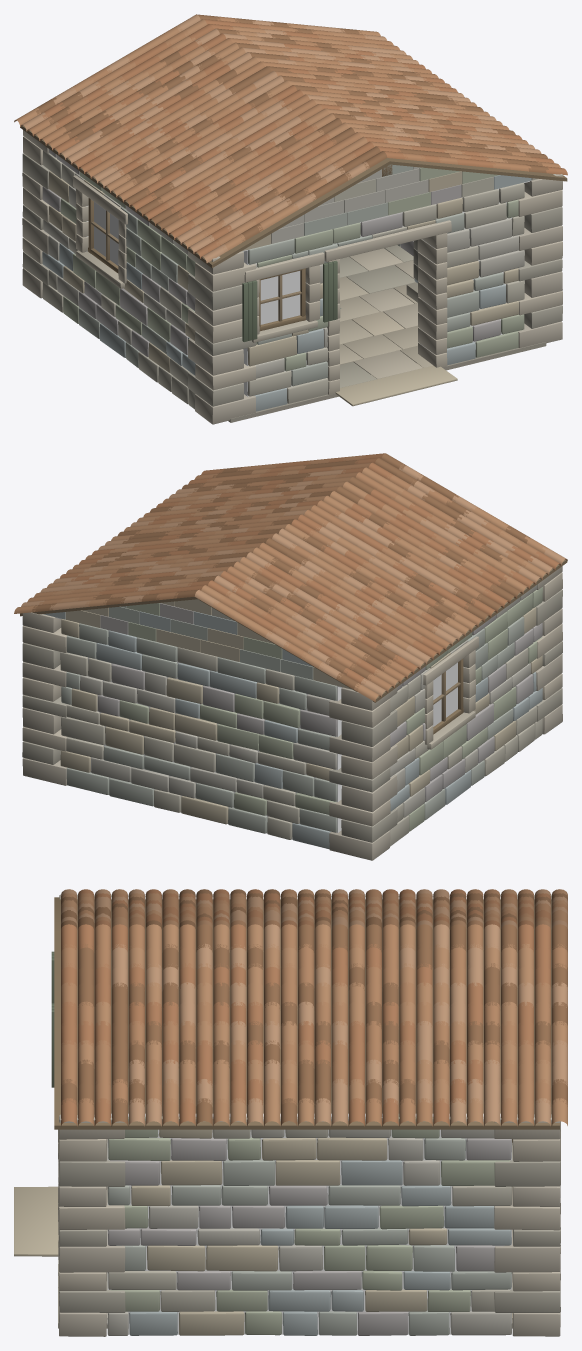
Rendered from Maison_Finition_final.fbx.
3 views of the same model, one above another, from view 1: azimuth 30°, elevation 25°; view 2: azimuth 150°, elevation 25°; view 3: azimuth 270°, elevation 25° (orthographic). The views are drawn at different scales.
Parts seen in each view (by area): view 1: Maconnerie_Assises.003, Tuiles_Conserve.003, Dalles_Patine_Discrete.003, Bois_Assemblages.003, Vitres_Fenetres_Conserve.003; view 2: Maconnerie_Assises.003, Tuiles_Conserve.003, Bois_Assemblages.003, Vitres_Fenetres_Conserve.003, Joints_Chaux_Retraits.003; view 3: Tuiles_Conserve.003, Maconnerie_Assises.003, Bois_Assemblages.003, Dalles_Patine_Discrete.003, Joints_Chaux_Retraits.003.
Boxes of the visible parts, x1=… form: Maconnerie_Assises.003: x1=22, y1=130, x2=562, y2=424; Tuiles_Conserve.003: x1=14, y1=14, x2=567, y2=262; Dalles_Patine_Discrete.003: x1=228, y1=245, x2=546, y2=422; Bois_Assemblages.003: x1=20, y1=125, x2=567, y2=341; Vitres_Fenetres_Conserve.003: x1=94, y1=202, x2=300, y2=324; Maconnerie_Assises.003: x1=22, y1=566, x2=562, y2=860; Tuiles_Conserve.003: x1=14, y1=453, x2=567, y2=701; Bois_Assemblages.003: x1=20, y1=559, x2=567, y2=734; Vitres_Fenetres_Conserve.003: x1=432, y1=662, x2=457, y2=726; Joints_Chaux_Retraits.003: x1=55, y1=617, x2=516, y2=839; Tuiles_Conserve.003: x1=61, y1=889, x2=567, y2=1126; Maconnerie_Assises.003: x1=58, y1=894, x2=560, y2=1336; Bois_Assemblages.003: x1=51, y1=897, x2=559, y2=1142; Dalles_Patine_Discrete.003: x1=14, y1=1139, x2=512, y2=1328; Joints_Chaux_Retraits.003: x1=107, y1=896, x2=511, y2=1334.
Size of the model in its own units: 714 by 435 by 720.
